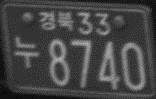0: (121, 42, 146, 92)
3: (75, 11, 93, 35), (94, 11, 111, 36)
4: (97, 41, 121, 92)
7: (70, 38, 93, 89)
8: (47, 38, 70, 86)
경북_O: (38, 11, 74, 32)
누: (13, 34, 40, 70)
